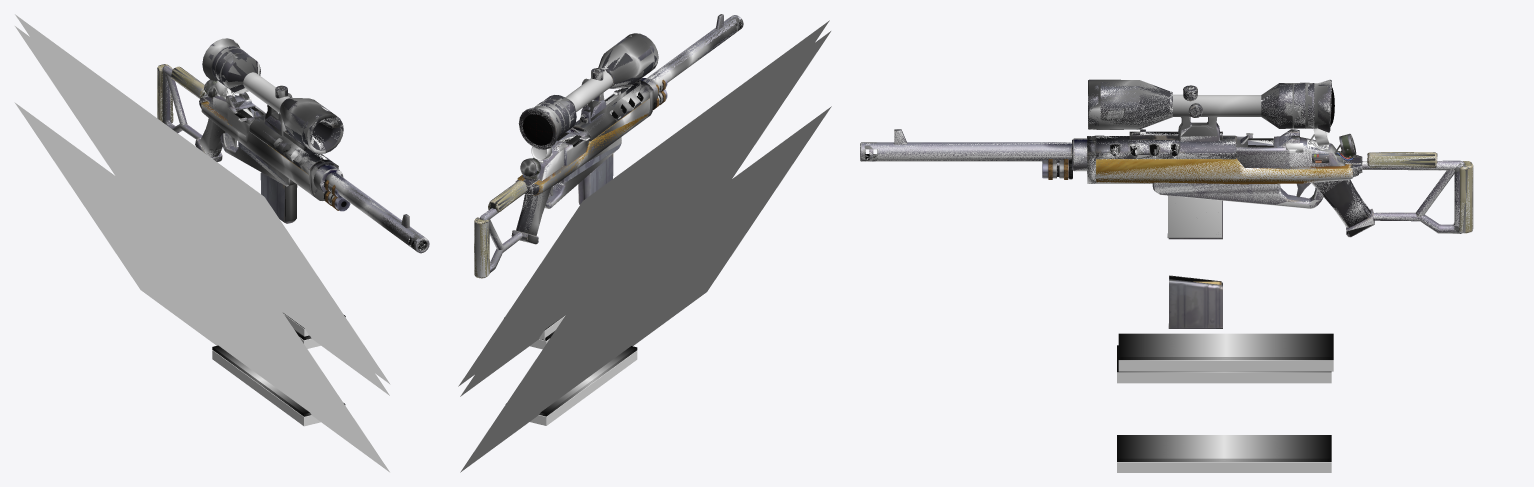
Rendered from Sniper.glb.
3 renders of one model, left to right at view 1: azimuth 30°, elevation 25°; view 2: azimuth 150°, elevation 25°; view 3: azimuth 270°, elevation 25°, orthographic. The views are drawn at different scales.
Parts seen in each view (by area): view 1: LightQuad (×3), WeaponBodyFXMeshDoubleDamage, BodyModel, Cube (1), SniperBodyModel (1), Cube, Magazine; view 2: LightQuad (×3), WeaponBodyFXMeshDoubleDamage, BodyModel, SniperBodyModel (1), Cube (1), Cube, Magazine, WeaponScope; view 3: BodyModel, SniperBodyModel (1), Cube (×2), WeaponBodyFXMeshDoubleDamage, Cube (1) (×3), Magazine, SniperMagazineModel (1).
Boxes of the visible parts, box(x1,y1,x2,y2) form: LightQuad (×3): box(14, 14, 390, 472); WeaponBodyFXMeshDoubleDamage: box(157, 38, 427, 253); BodyModel: box(157, 39, 429, 252); Cube (1): box(212, 350, 320, 426); SniperBodyModel (1): box(159, 40, 427, 251); Cube: box(212, 345, 345, 416); Magazine: box(260, 172, 293, 223); LightQuad (×3): box(458, 20, 831, 472); WeaponBodyFXMeshDoubleDamage: box(474, 14, 743, 277); BodyModel: box(474, 14, 742, 278); SniperBodyModel (1): box(474, 15, 741, 278); Cube (1): box(530, 350, 637, 425); Cube: box(505, 346, 637, 416); Magazine: box(578, 154, 613, 204); WeaponScope: box(523, 114, 552, 145); BodyModel: box(860, 79, 1473, 236); SniperBodyModel (1): box(860, 81, 1472, 237); Cube (×2): box(1117, 333, 1333, 461); WeaponBodyFXMeshDoubleDamage: box(861, 79, 1473, 237); Cube (1) (×3): box(1117, 360, 1333, 472); Magazine: box(1168, 275, 1222, 328); SniperMagazineModel (1): box(1168, 195, 1221, 238).
Size of what is drawn, in the model's own units: 0.3419 by 0.6482 by 1.04.
Materials: 13 (8 with a texture image).
